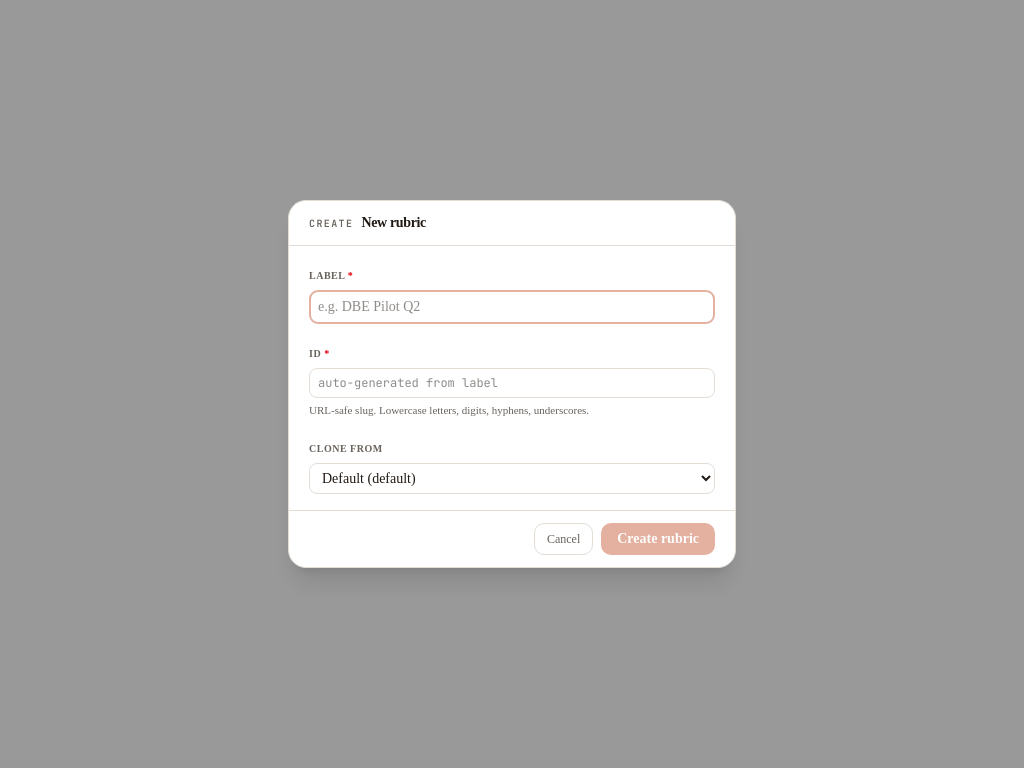
CreateRubricDialog › blocks save when the auto-generated ID collides with an existing rubric
The image size is (1024, 768).
Type "Default" into the field labelled "Label" at (512, 307), box left=309, top=290, right=715, bottom=324
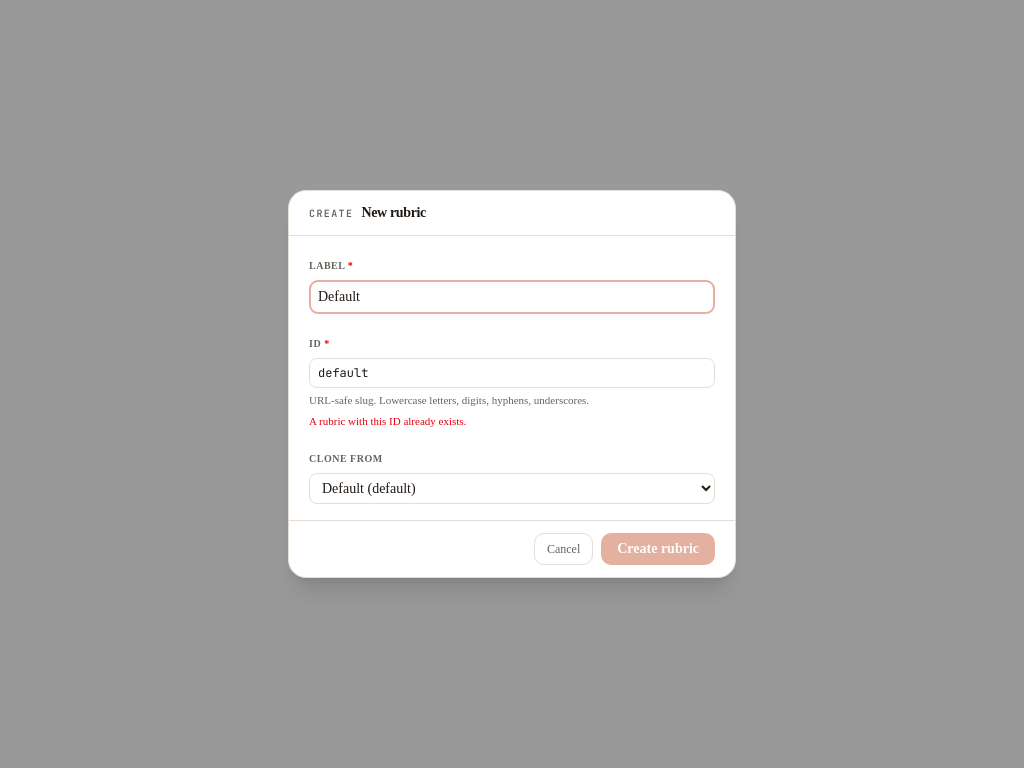
Expected: the button "Create rubric" is disabled, left=601, top=533, right=715, bottom=565
Now the text "A rubric with this ID already exists." is shown, box left=309, top=414, right=466, bottom=426
